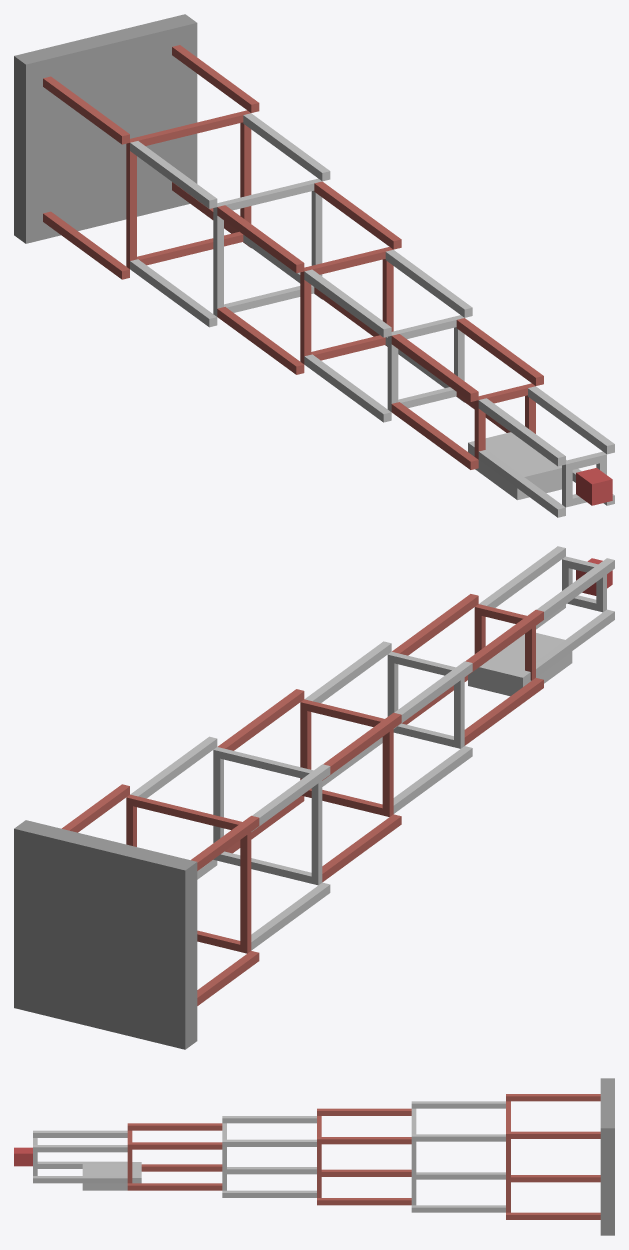
File: infrastructure_tower.glb
The picture shows the model from 3 angles, top to bottom: view 1: azimuth 30°, elevation 25°; view 2: azimuth 150°, elevation 25°; view 3: azimuth 270°, elevation 25°; orthographic projection. The views are drawn at different scales.
Bounding box in the file's own units: 5 × 5 × 25.4.
